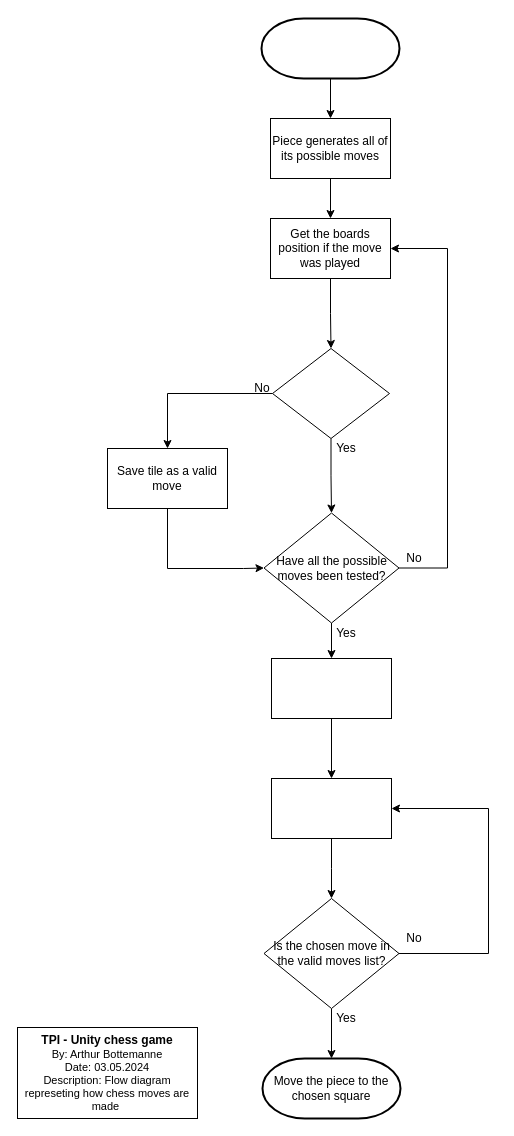
Some shapes in this 514 by 1136 pixel diagram are drawn without their labels. The centre of each missing label's shape, as x and y in pixels:
"Highlight the board tiles that are validated moves" goes at (331,688).
"Is player's king in check?" goes at (331,393).
"Player chooses a piece to move" goes at (330,48).
"Player chooses a square to move to piece to" goes at (331,808).
